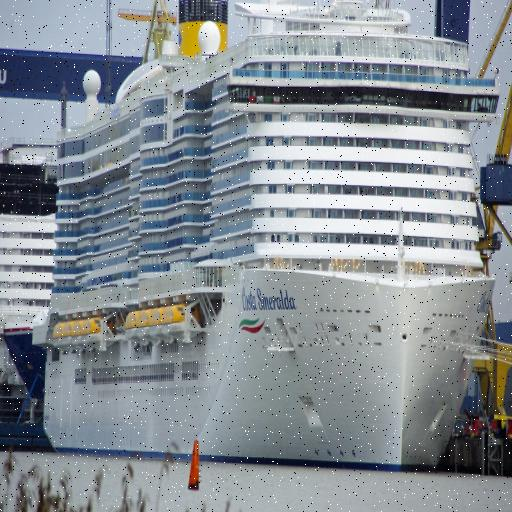cruises: (38, 1, 498, 476)
